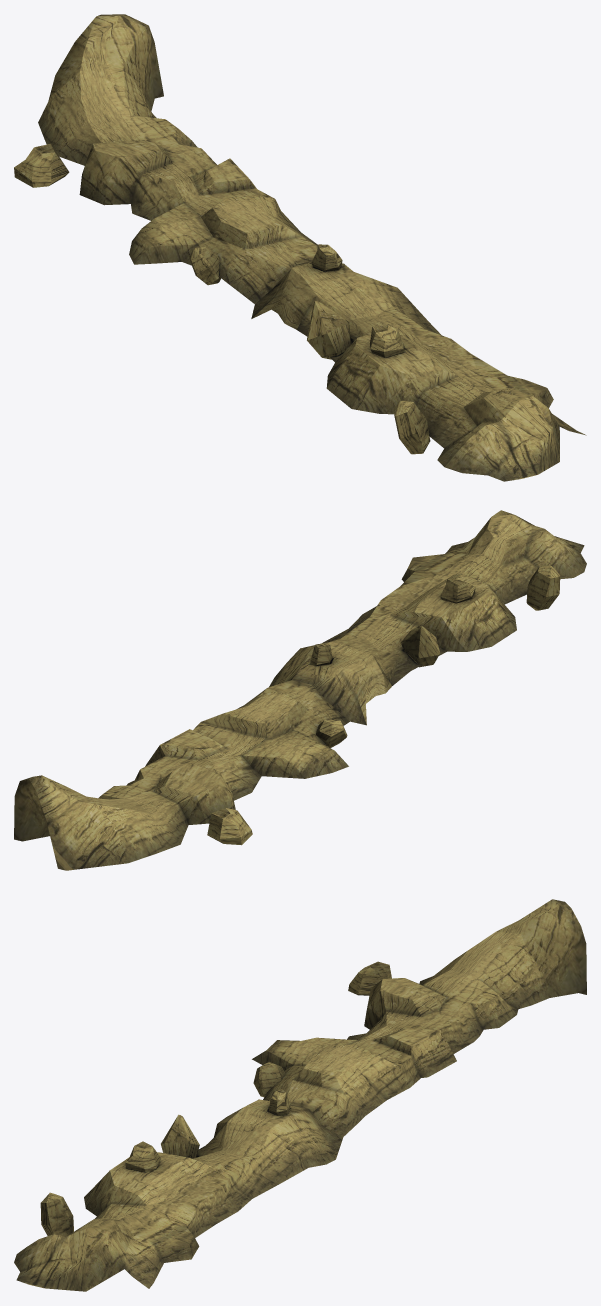
Rendered from mountain_03.fbx.
3 renders of one model, top to bottom at view 1: azimuth 30°, elevation 25°; view 2: azimuth 150°, elevation 25°; view 3: azimuth 330°, elevation 25°, orthographic. The views are drawn at different scales.
Visible parts, largest first — view 1: mountain_03; view 2: mountain_03; view 3: mountain_03.
Boxes of the visible parts, <box> form: mountain_03: <box>14,14,586,481</box>; mountain_03: <box>14,510,586,870</box>; mountain_03: <box>14,899,586,1291</box>.
Size of the model in its own units: 227 by 106 by 1003.
